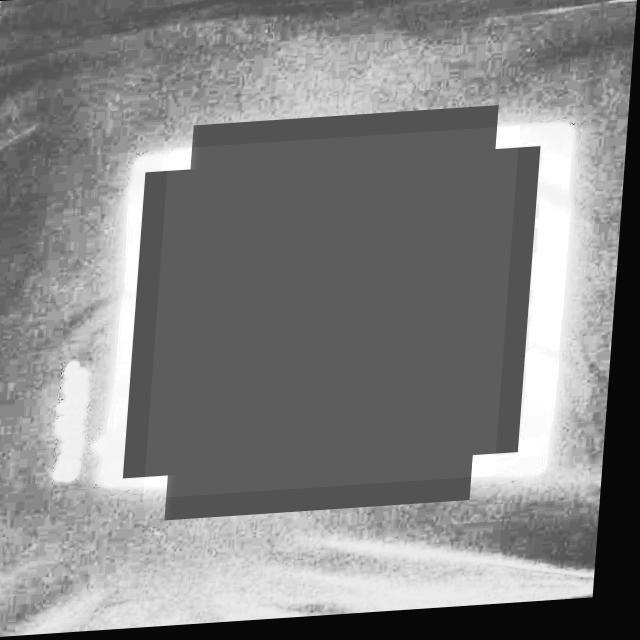qr_code: (151, 132, 523, 501)
